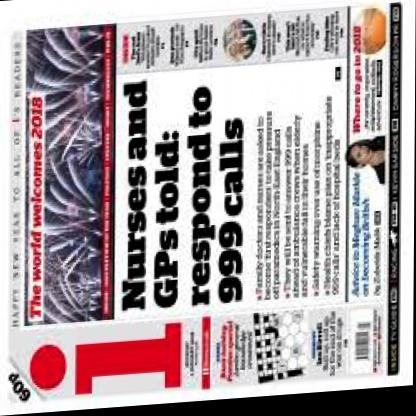Paper: (8, 0, 410, 407)
